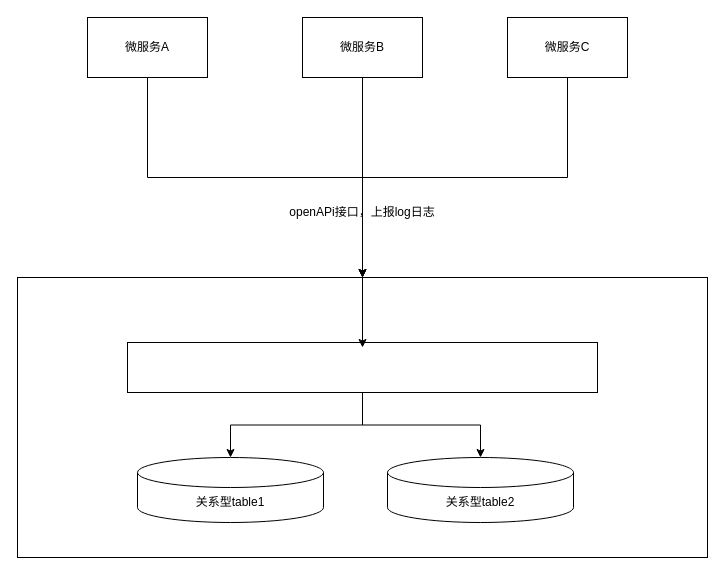
The diagram is 725 pixels wide and 575 high, and some of its shapes have lost their labels. The shapes that lost their labels are listed below. From the top down, each one's centre as x and y in pixels, then its label:
At point 362,367: "分库分表组件转发请求增、查请求".
At point 362,417: "日志服务".
